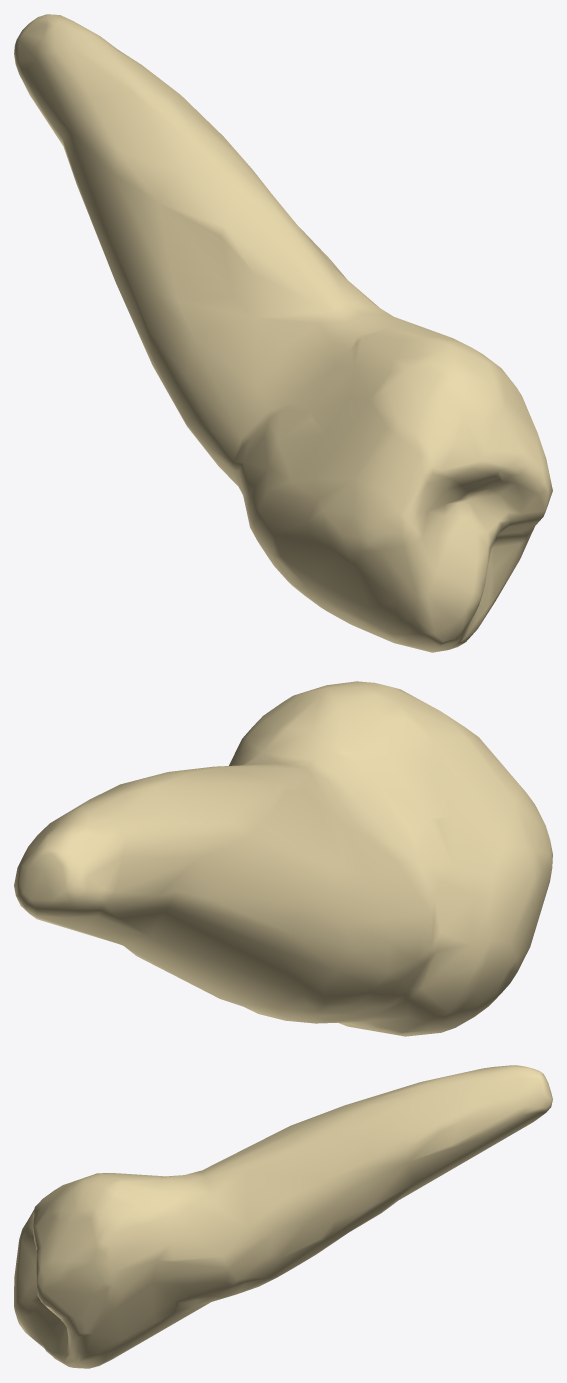
3 views of the same model, one above another, from view 1: azimuth 30°, elevation 25°; view 2: azimuth 150°, elevation 25°; view 3: azimuth 270°, elevation 25° (orthographic). The views are drawn at different scales.
Parts seen in each view (by area): view 1: 右侧下颌第二前磨牙; view 2: 右侧下颌第二前磨牙; view 3: 右侧下颌第二前磨牙.
Part boxes in pixels (x1,y1,x2,y2): 右侧下颌第二前磨牙: (14,14,552,652); 右侧下颌第二前磨牙: (14,681,552,1036); 右侧下颌第二前磨牙: (14,1065,552,1368).
Bounding box in the file's own units: 0.0117 × 0.0192 × 0.0336.
